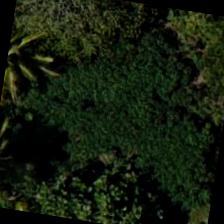Kelapa_Sawit: (0, 15, 61, 110)
